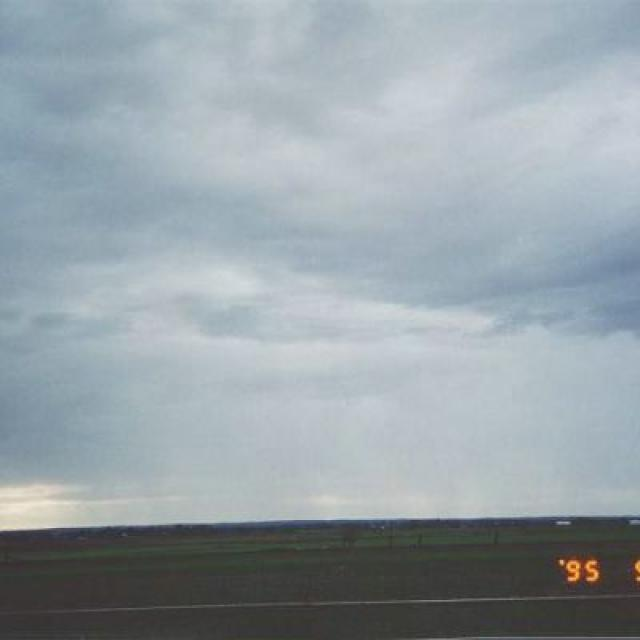Ns: (1, 116, 640, 436)
